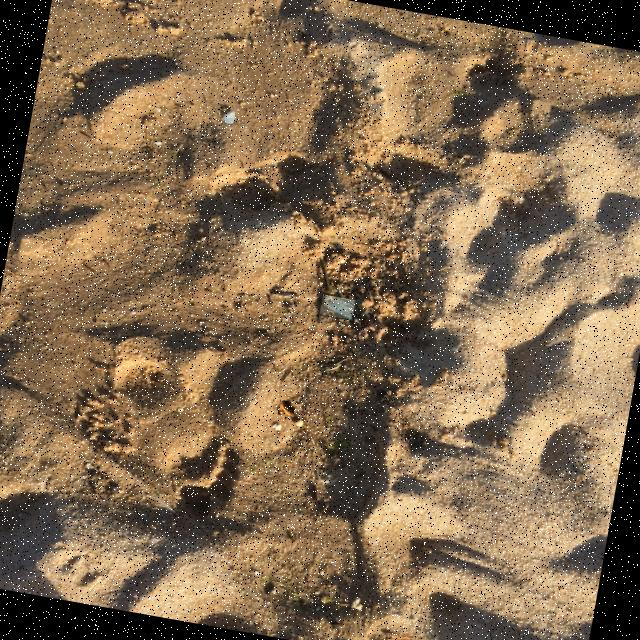Cigarette: (279, 400, 293, 416), (525, 40, 538, 53), (385, 636, 408, 640)
Other plastic bottle: (321, 300, 354, 319)
